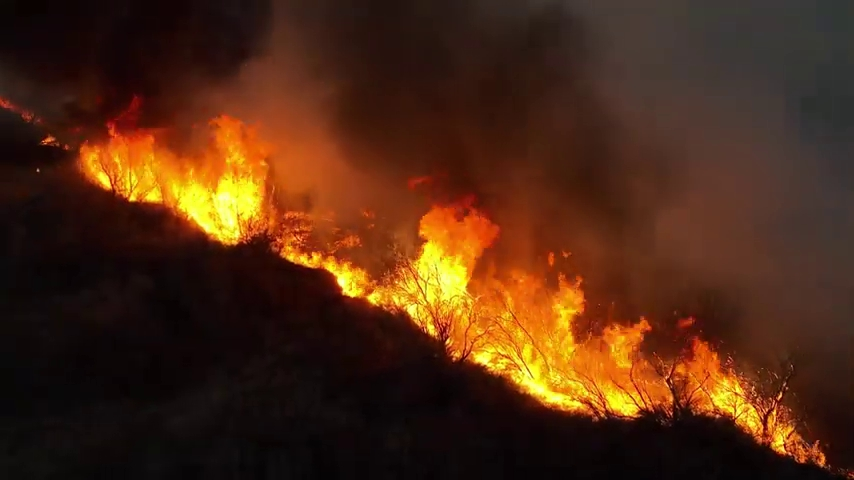forest_fire: (77, 114, 823, 464), (14, 108, 33, 119), (679, 320, 690, 329), (1, 102, 10, 107), (50, 137, 54, 140), (354, 240, 356, 242)
